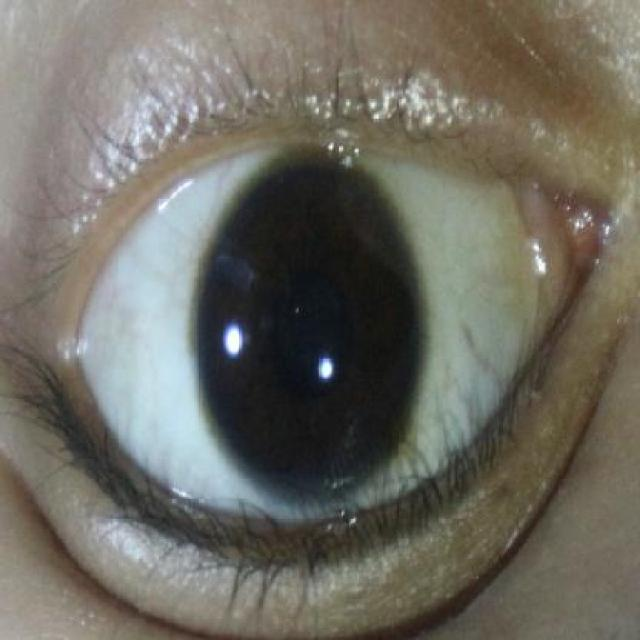Normal: (195, 155, 421, 505)
